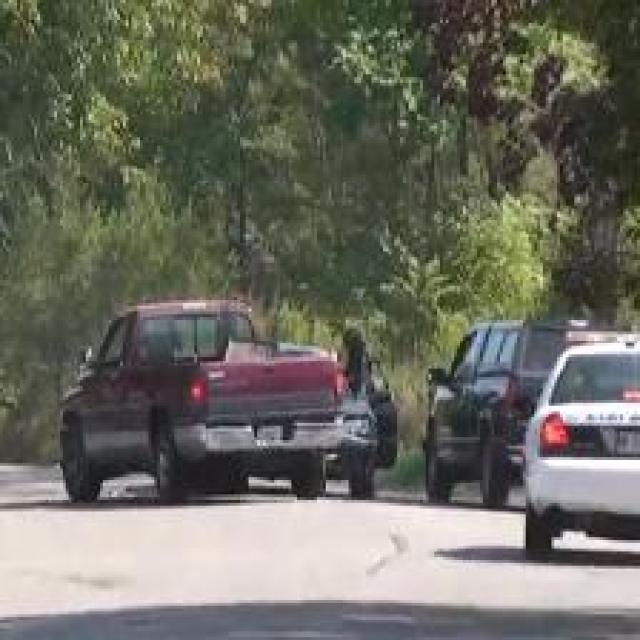other: (168, 322, 341, 417)
